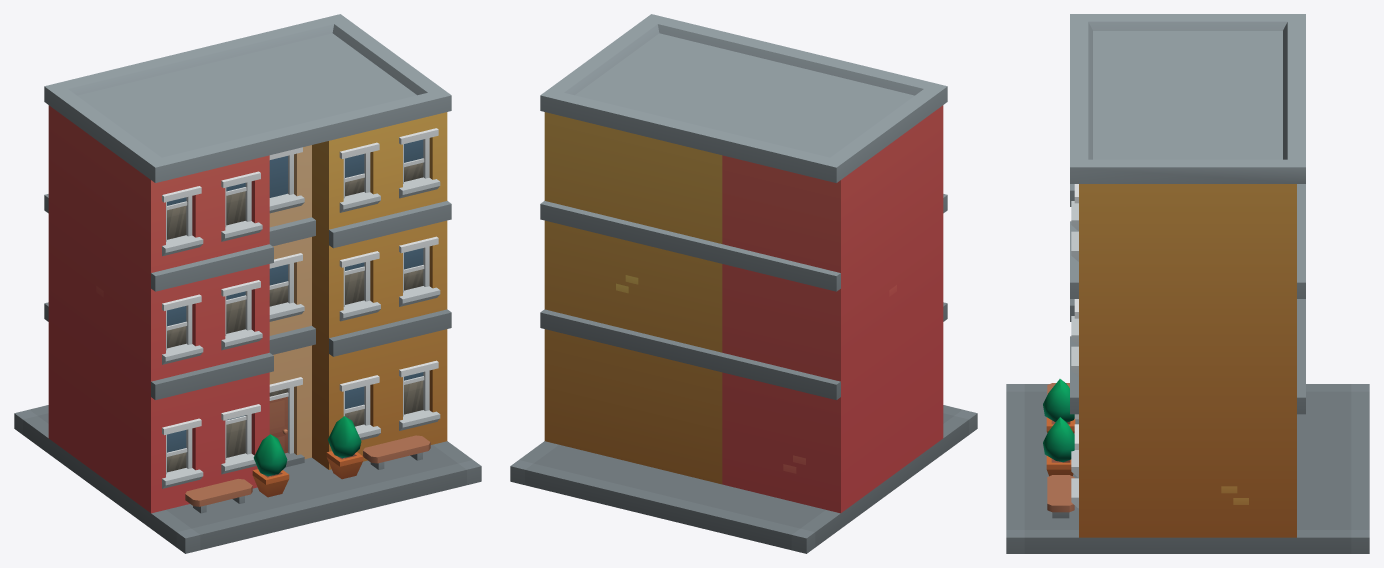
Rendered from Building.glb.
3 views of the same model, side by side, from view 1: azimuth 30°, elevation 25°; view 2: azimuth 150°, elevation 25°; view 3: azimuth 270°, elevation 25° (orthographic). The views are drawn at different scales.
Parts seen in each view (by area): view 1: building_F; view 2: building_F; view 3: building_F.
Part boxes in pixels (x1,y1,x2,y2): building_F: (14, 14, 481, 553); building_F: (510, 14, 977, 553); building_F: (1006, 14, 1369, 553).
Bounding box in the file's own units: 2.01 × 2.35 × 2.
Materials: 1 (1 with a texture image).
